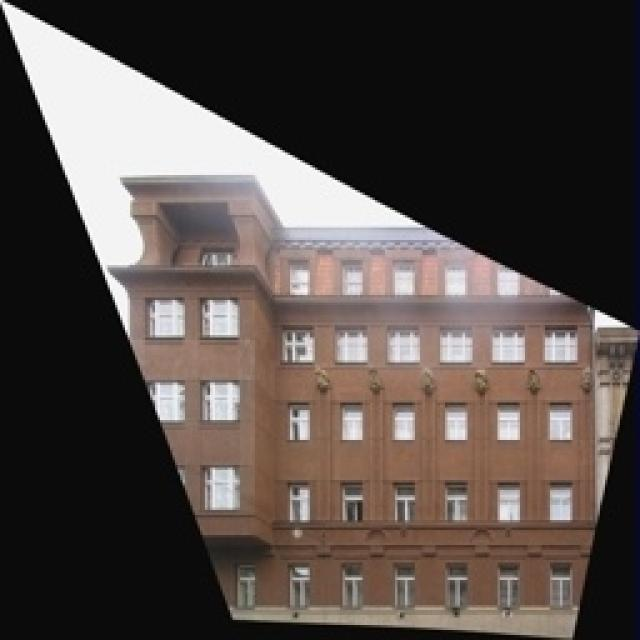building: (112, 162, 598, 640)
